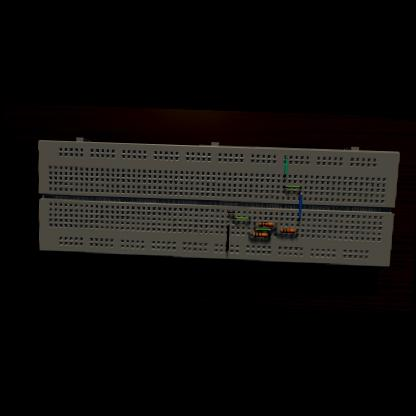breadboard: (35, 136, 400, 269)
resistor: (259, 222, 274, 228), (280, 230, 296, 235), (252, 233, 268, 238)
wire: (226, 223, 230, 252), (298, 193, 302, 221), (284, 156, 288, 177), (232, 216, 250, 220), (254, 228, 272, 232), (284, 186, 302, 188), (228, 211, 234, 212), (254, 223, 259, 224), (275, 230, 280, 231), (247, 234, 252, 235), (296, 230, 298, 232), (268, 234, 270, 236), (274, 224, 276, 225)
